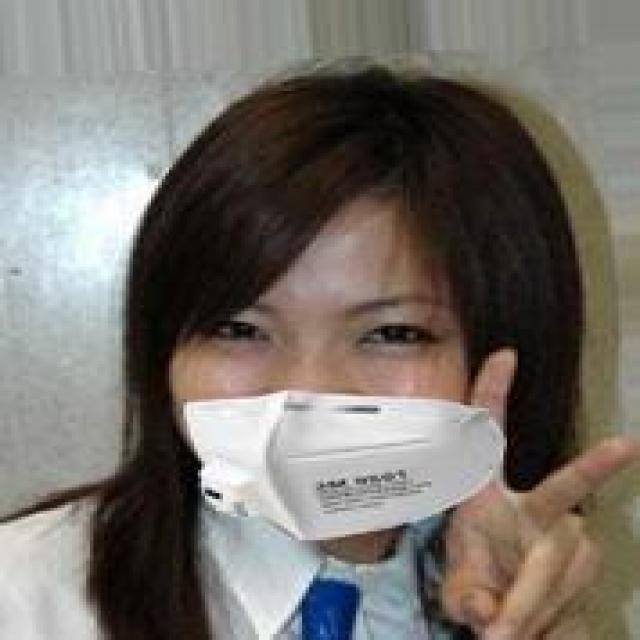mask: (126, 62, 568, 560)
